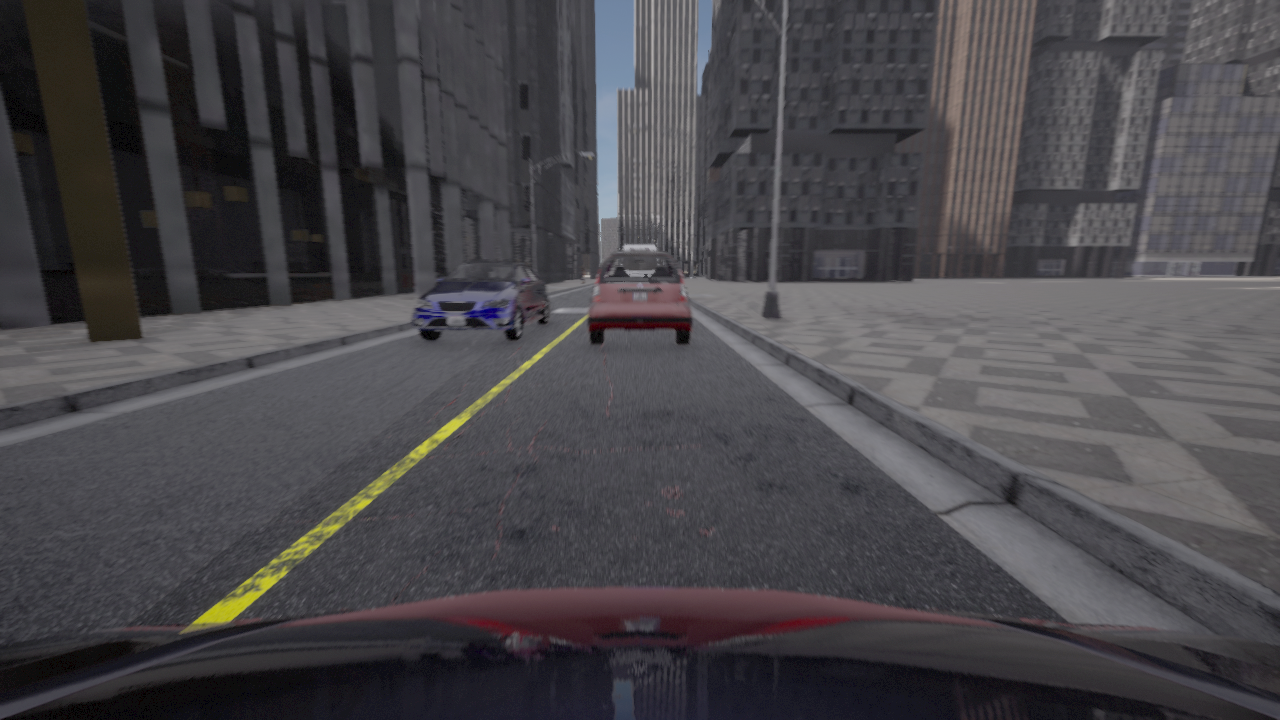cyclist: (0, 588, 1279, 719), (411, 260, 549, 340), (588, 251, 691, 345), (622, 244, 657, 250)
pedestrian: (581, 266, 584, 283)
